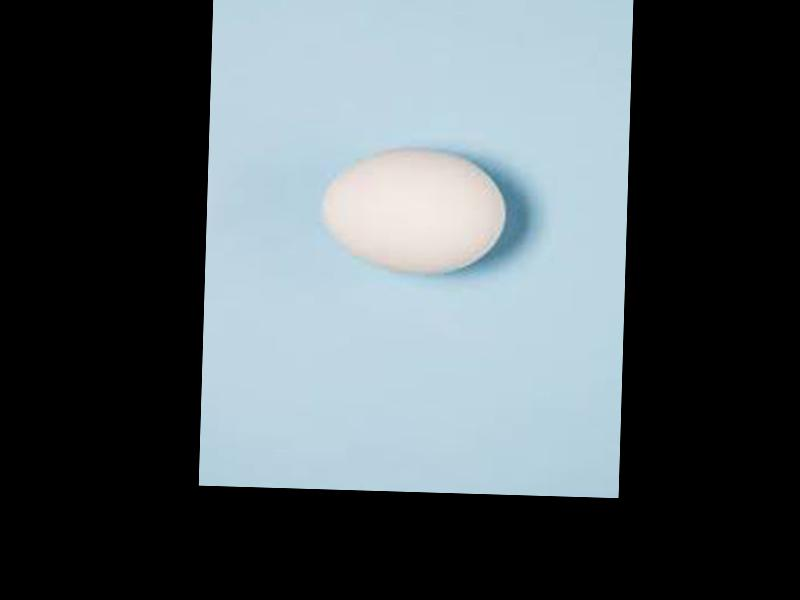Eggs: (318, 145, 507, 275)
